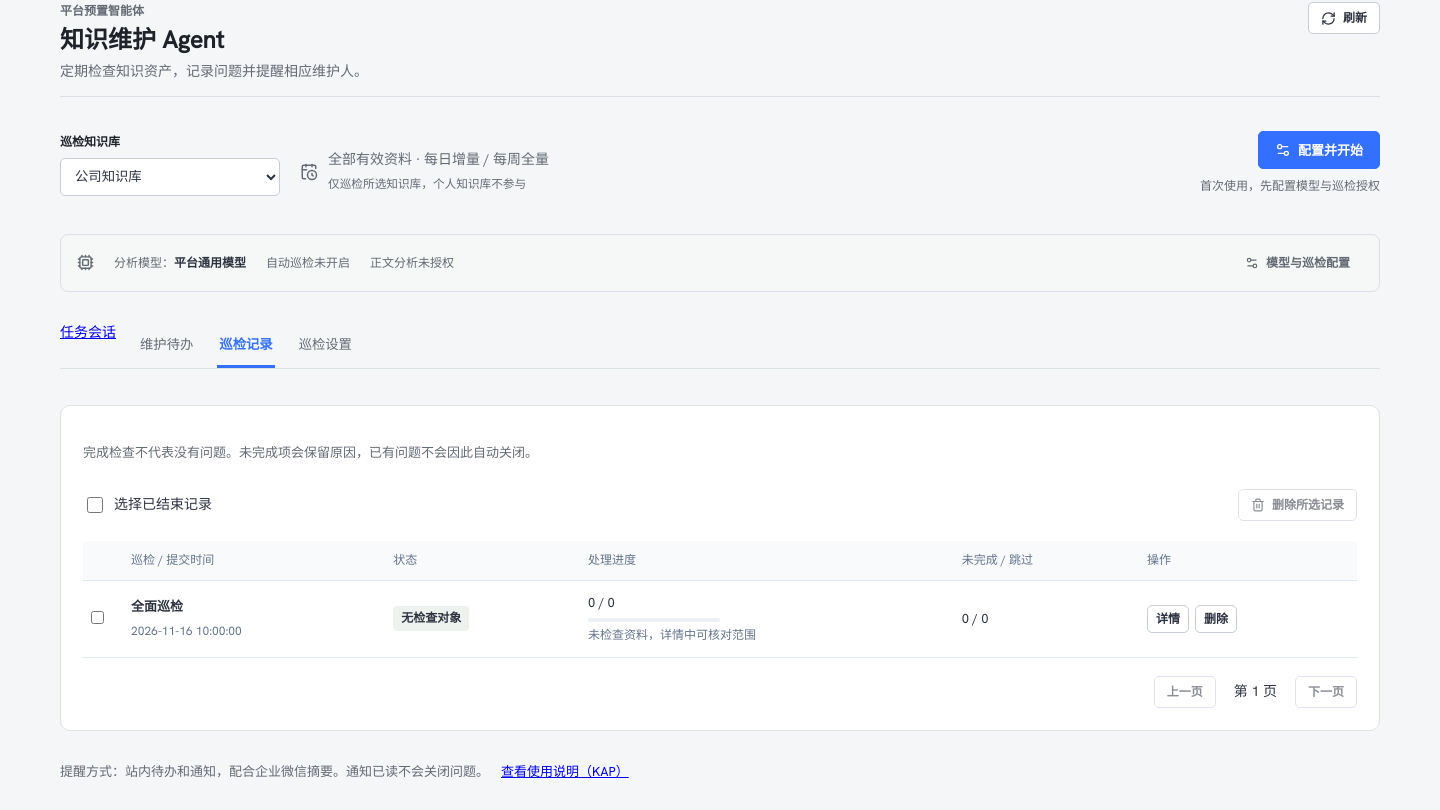
Scenario: opens zero-target legacy history and distinguishes today's scope from missing history
Expected: the text "无检查对象" is shown, [393,606,469,631]
What coordinates should you click on to do the following:
click the button with aria-label "查看巡检详情"
I would click on:
 (1168, 619)
Its box is [1147,605,1189,633].
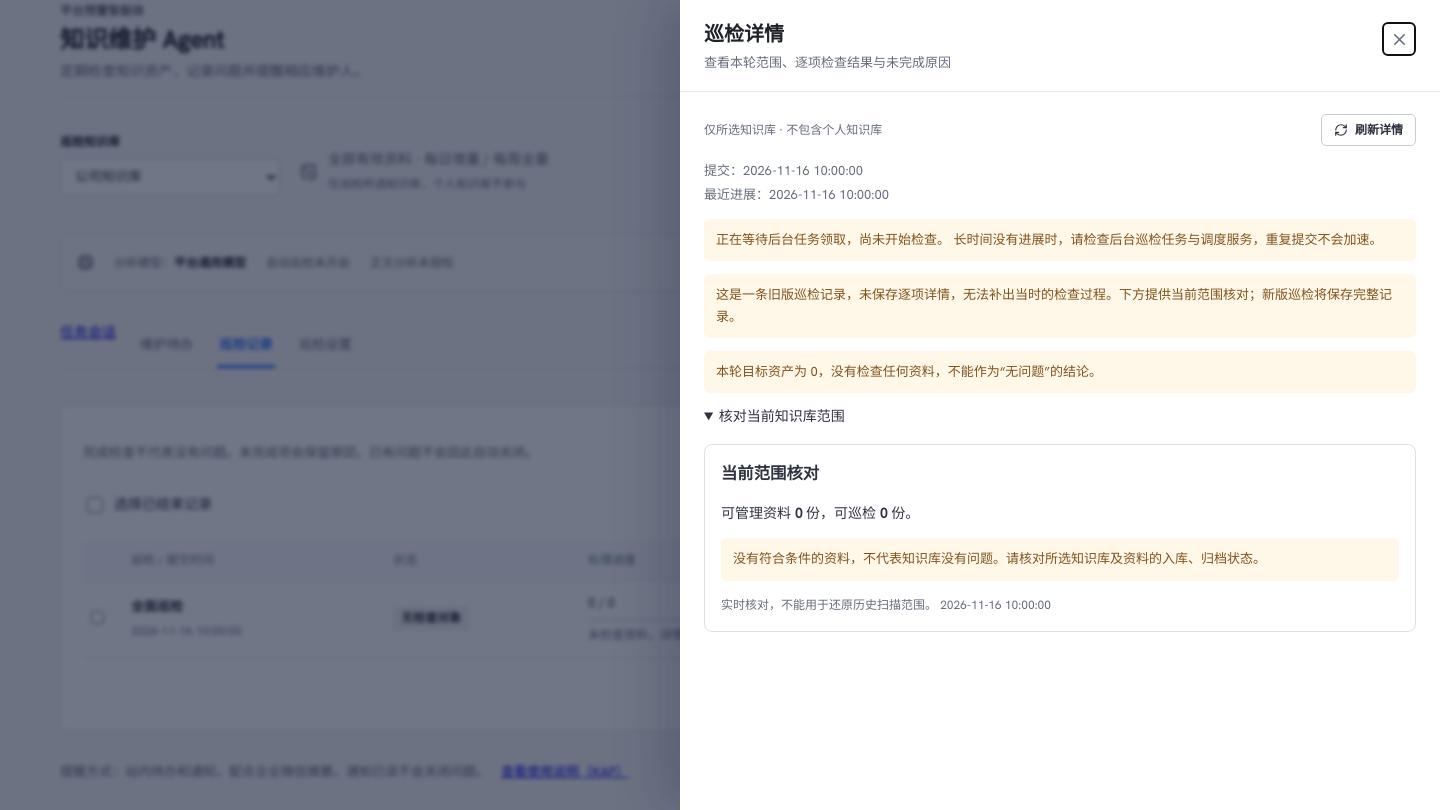
Expected: the dialog "巡检详情" is shown, [680,0,1439,809]
Expected: the text "这是一条旧版巡检记录，未保存逐项详情，无法补出当时的检查过程。下方提供当前范围核对；新版巡检将保存完整记录。" is shown, [704,274,1416,338]
Expected: the text "实时核对，不能用于还原历史扫描范围。 2026-11-16 10:00:00" is shown, [721,596,1051,612]
